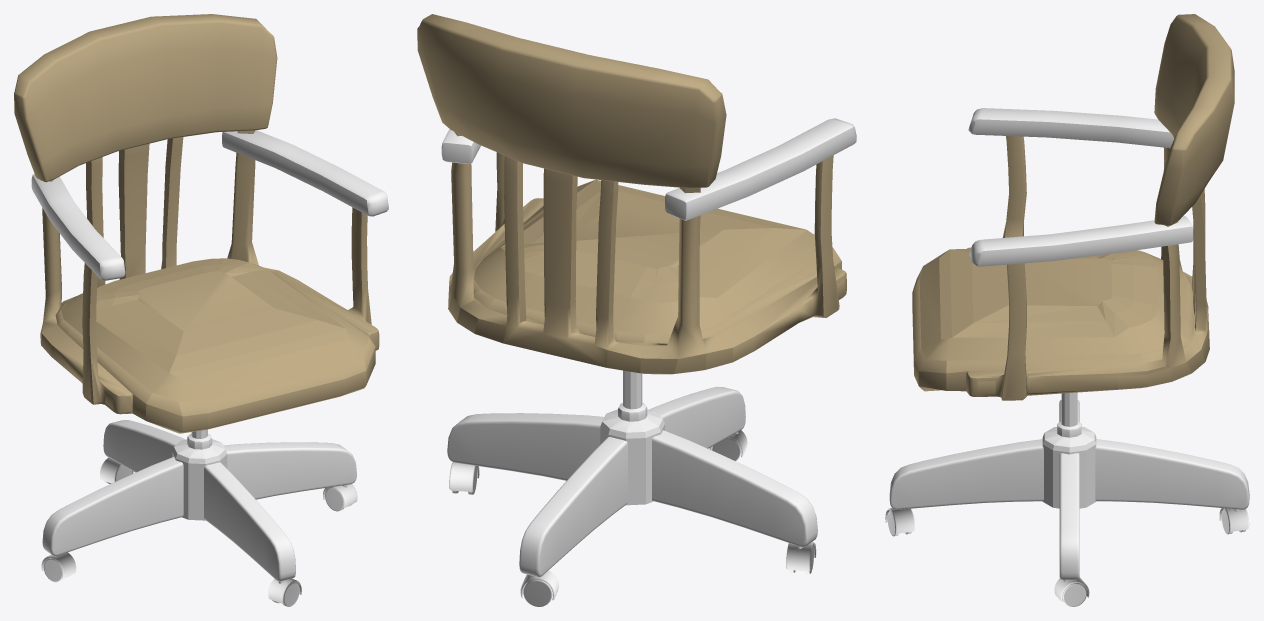
File: OF_Chair.fbx
3 renders of one model, left to right at view 1: azimuth 30°, elevation 25°; view 2: azimuth 150°, elevation 25°; view 3: azimuth 270°, elevation 25°, orthographic. The views are drawn at different scales.
Parts seen in each view (by area): view 1: SillaEscritorio; view 2: SillaEscritorio; view 3: SillaEscritorio.
Boxes of the visible parts, x1,y1,x2,y2 form: SillaEscritorio: (14, 14, 388, 606); SillaEscritorio: (417, 14, 856, 606); SillaEscritorio: (885, 14, 1249, 606).
Bounding box in the file's own units: 25.97 × 37.21 × 26.07.
